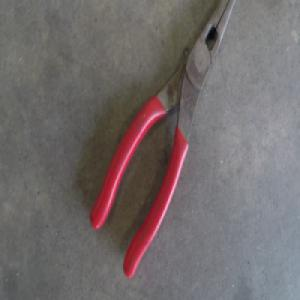Pliers: (90, 1, 247, 283)
